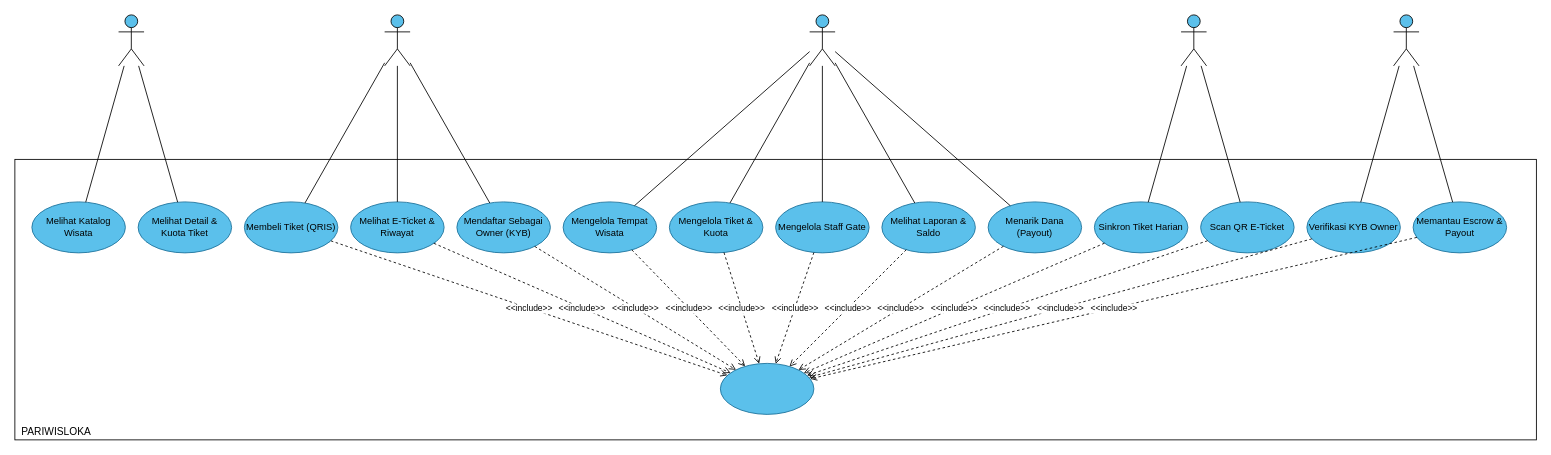
Image size: 1551x455. Some labels were removed from this diagram. Each missing label, with the centre of its shape:
"Customer" belongs at point (397, 40).
"Guest" belongs at point (131, 40).
"Internal Admin" belongs at point (1406, 40).
"Login" belongs at point (767, 388).
"Owner Wisata" belongs at point (822, 40).
"Staff Gate" belongs at point (1193, 40).
